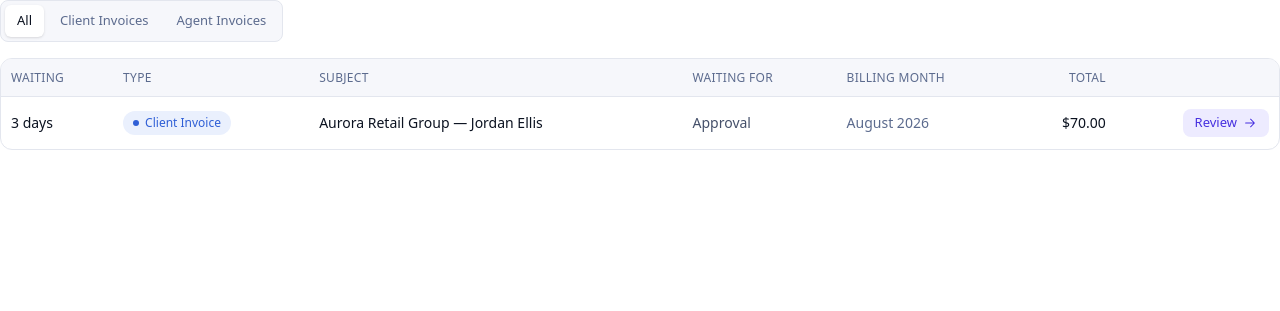
Scenario: ReviewQueueView › shows the empty state when the filter leaves nothing
Click the tab "Agent Invoices".
click(221, 21)  # box [164,5,278,36]
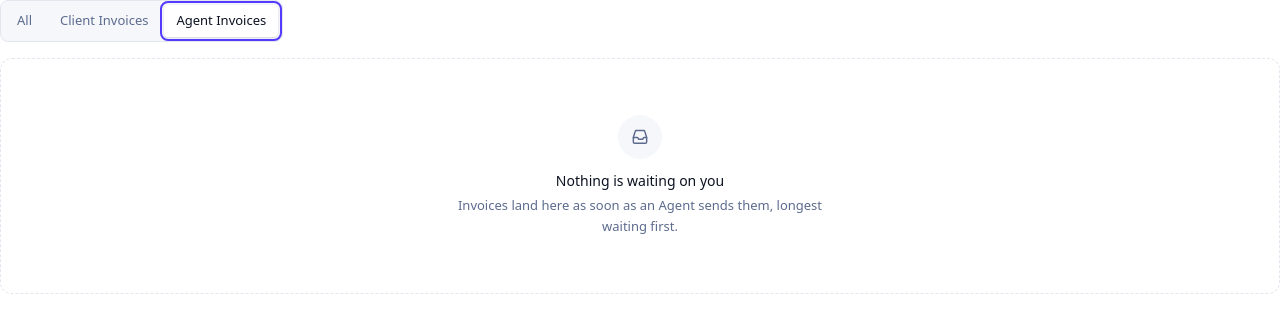
Expected: the text "Nothing is waiting on you" is shown, [556,170,724,190]
